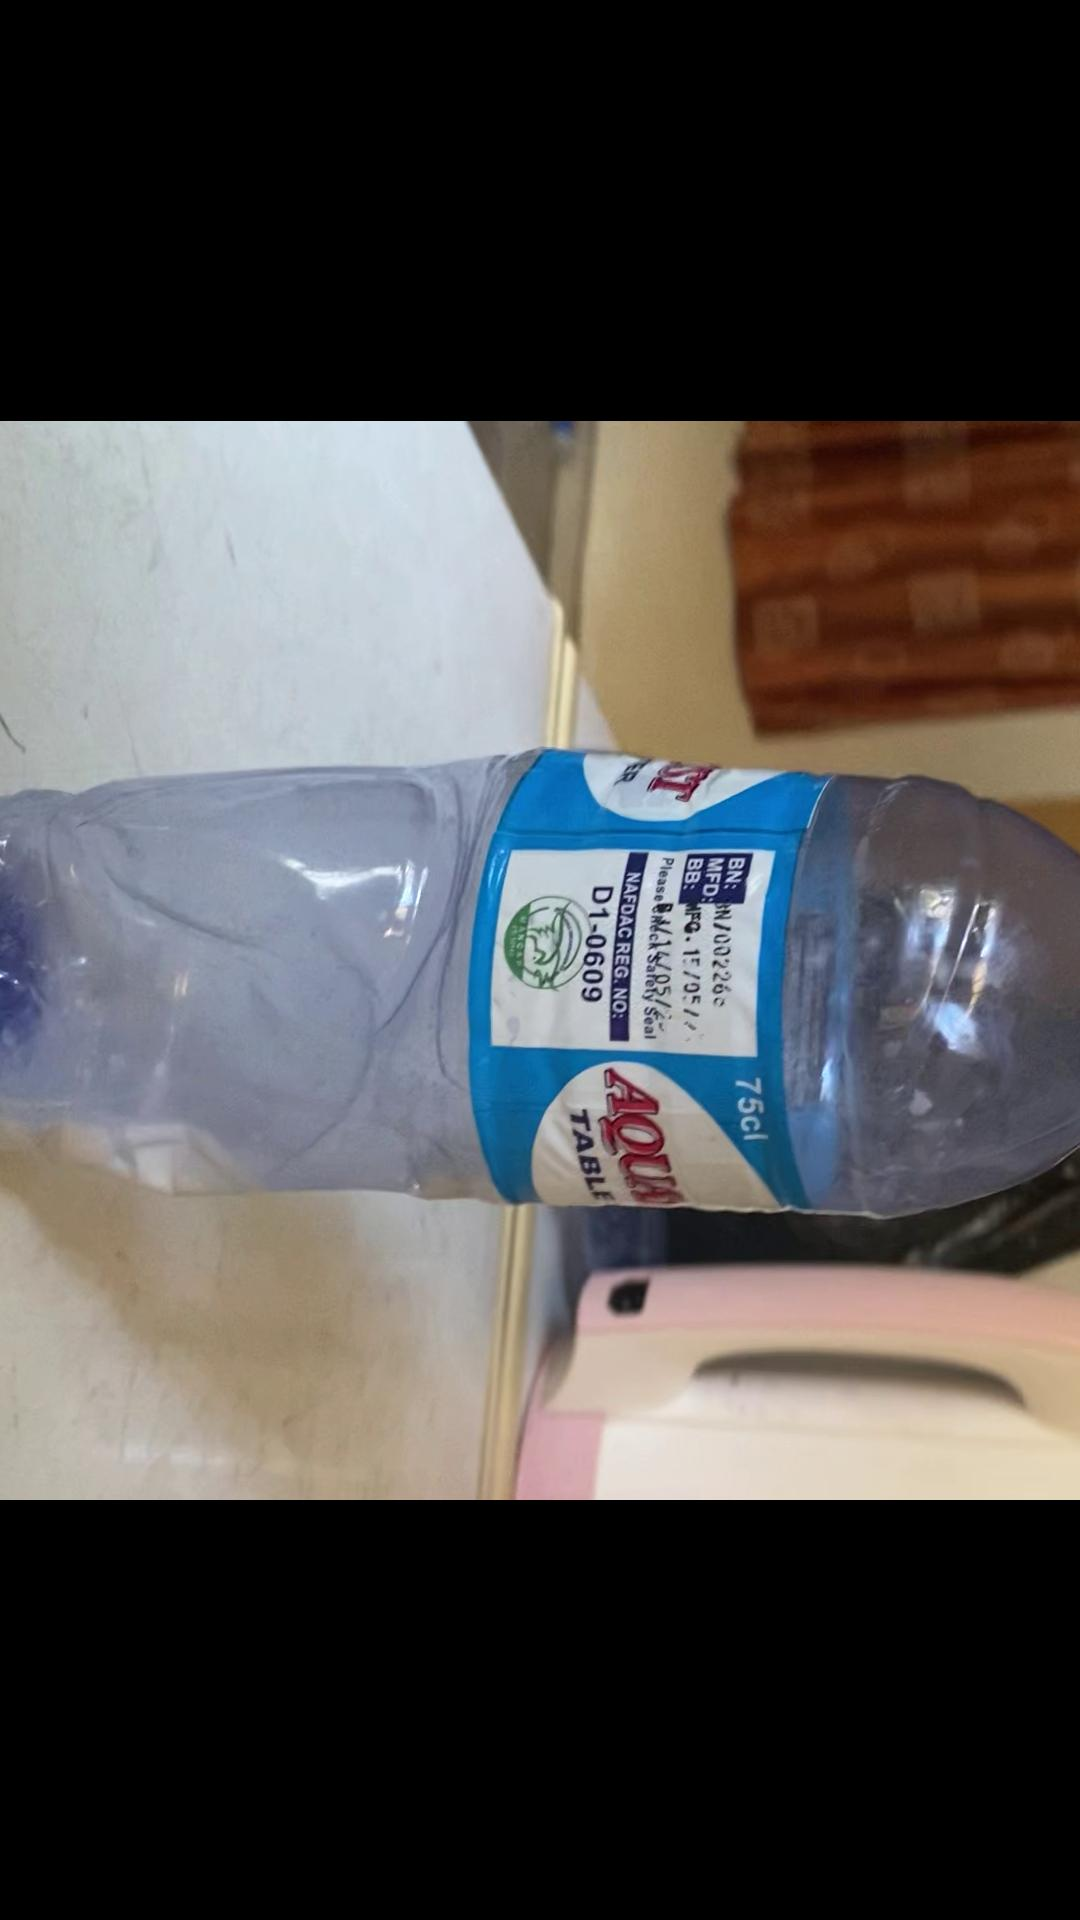crumbled: (0, 746, 1080, 1228)
label: (473, 746, 800, 1222)
